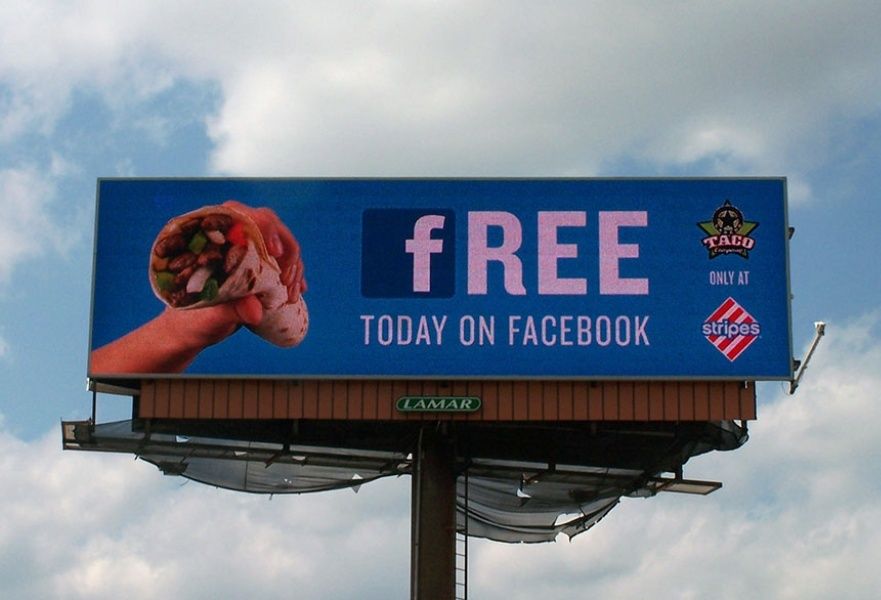text: (417, 207, 432, 296), (433, 207, 448, 296), (449, 207, 464, 296), (465, 207, 480, 296), (481, 207, 496, 296), (497, 207, 512, 296), (513, 207, 528, 296), (529, 207, 544, 296), (545, 207, 560, 296), (561, 207, 576, 296), (577, 207, 592, 296), (593, 207, 608, 296), (609, 207, 624, 296), (625, 207, 640, 296), (403, 207, 416, 296), (641, 207, 650, 296), (433, 315, 449, 346), (465, 315, 480, 347), (513, 315, 528, 347), (529, 315, 544, 347), (545, 315, 560, 347), (561, 315, 576, 347), (577, 315, 592, 347), (593, 315, 608, 347), (609, 315, 624, 347), (625, 315, 640, 347), (369, 315, 384, 346), (385, 315, 400, 346), (401, 315, 416, 346), (417, 315, 432, 346), (481, 315, 495, 347), (641, 315, 652, 347), (359, 315, 368, 346), (705, 233, 720, 251), (721, 233, 736, 251), (737, 233, 752, 251), (705, 321, 720, 337), (721, 321, 736, 337), (737, 321, 752, 337), (738, 269, 752, 285), (721, 271, 735, 285), (417, 398, 432, 410), (433, 398, 448, 410), (449, 398, 464, 410), (459, 315, 464, 347), (709, 271, 720, 285), (405, 398, 416, 410), (508, 315, 512, 347), (753, 321, 761, 337), (753, 233, 759, 251), (465, 398, 473, 410), (701, 321, 704, 337), (703, 233, 704, 251)
